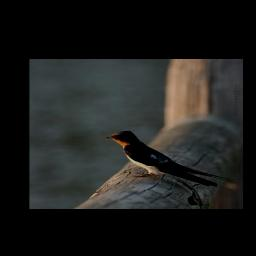Swallow: (102, 127, 236, 187)
